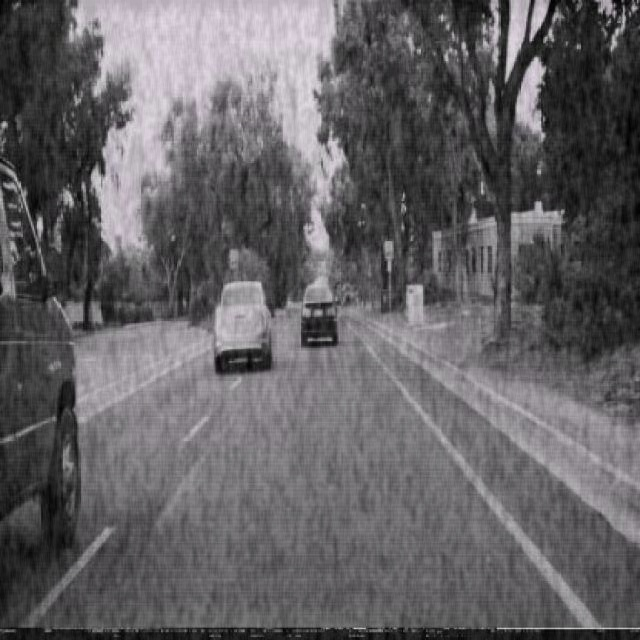speedLimit45: (229, 248, 238, 270), (385, 238, 393, 261)
